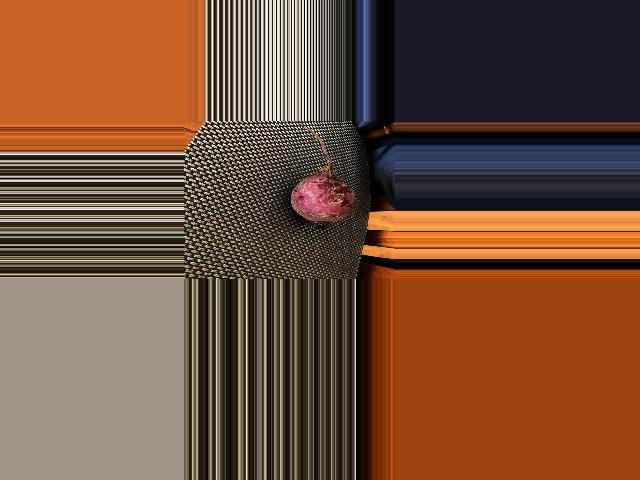beet: (291, 129, 356, 230)
